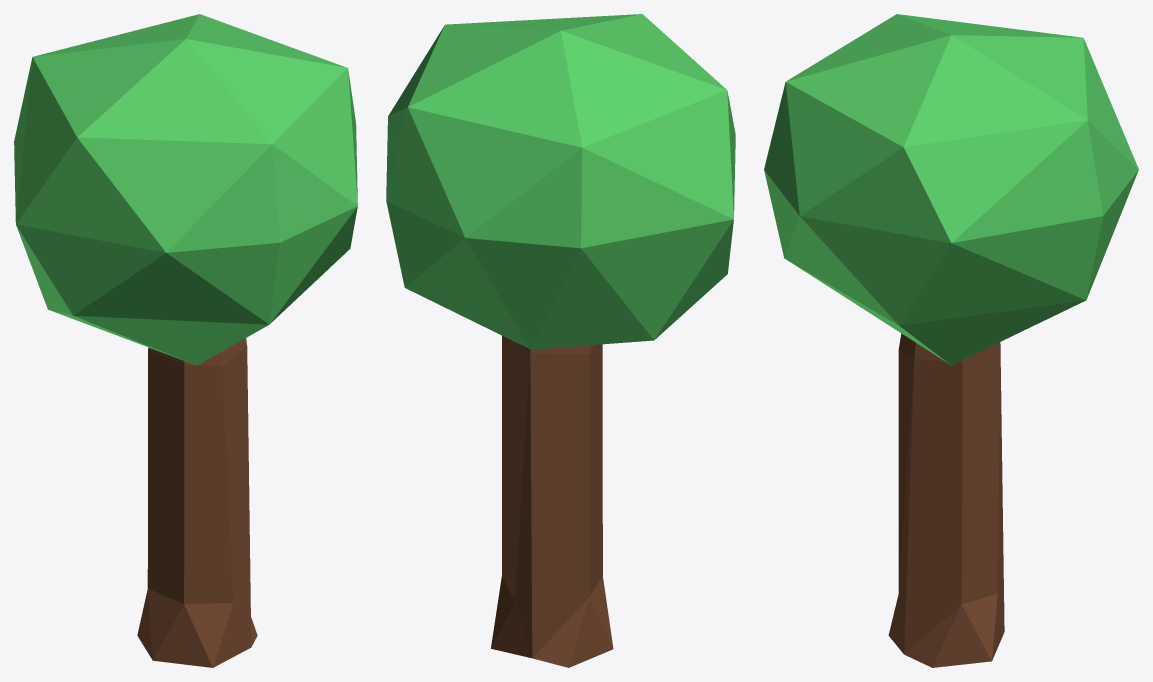
File: agac3.fbx
3 views of the same model, side by side, from view 1: azimuth 30°, elevation 25°; view 2: azimuth 150°, elevation 25°; view 3: azimuth 270°, elevation 25° (orthographic). The views are drawn at different scales.
Parts seen in each view (by area): view 1: Icosphere, Cylinder; view 2: Icosphere, Cylinder; view 3: Icosphere, Cylinder.
Part boxes in pixels (box(x1,y1,x2,y2)): Icosphere: box(14, 14, 357, 365); Cylinder: box(137, 338, 257, 667); Icosphere: box(386, 14, 735, 349); Cylinder: box(491, 335, 613, 667); Icosphere: box(764, 14, 1138, 365); Cylinder: box(888, 333, 1004, 667).
Size of the model in its own units: 193 by 327 by 185.
